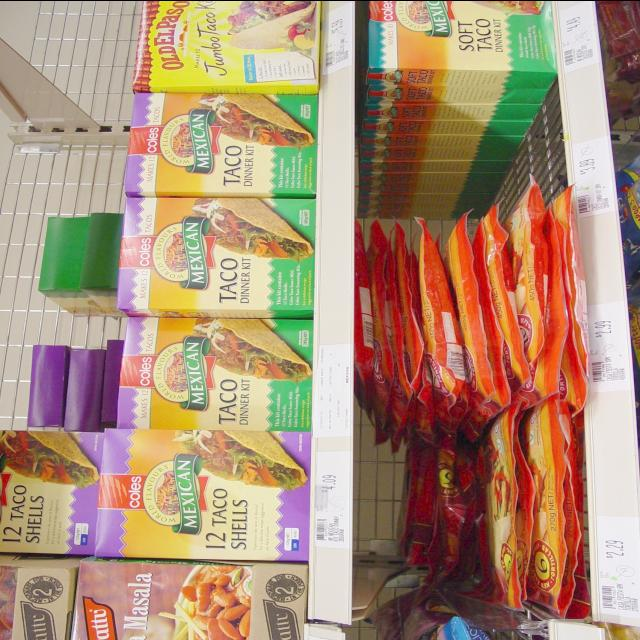empty_space: (377, 104, 560, 206)
